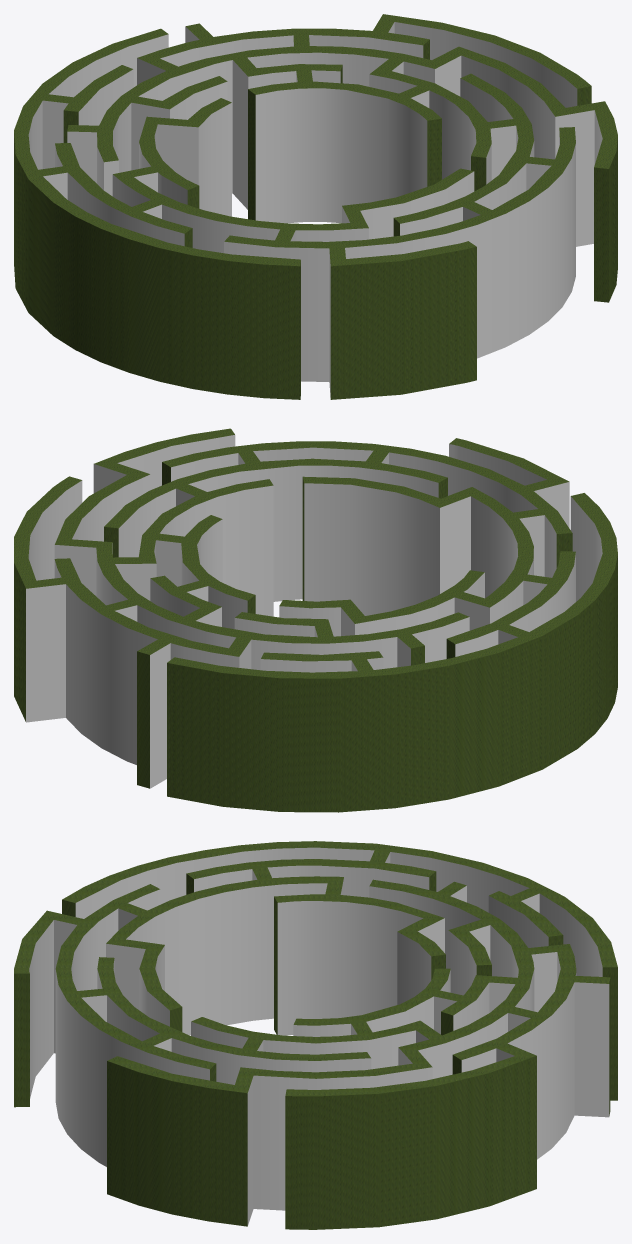
Rendered from mesh1_model_lev2.glb.
3 renders of one model, top to bottom at view 1: azimuth 30°, elevation 25°; view 2: azimuth 150°, elevation 25°; view 3: azimuth 270°, elevation 25°, orthographic.
Parts seen in each view (by area): view 1: mesh1_model_lev2; view 2: mesh1_model_lev2; view 3: mesh1_model_lev2.
Part boxes in pixels (x1,y1,x2,y2): mesh1_model_lev2: (14,14,617,399); mesh1_model_lev2: (14,428,617,812); mesh1_model_lev2: (14,841,617,1229).
Size of the model in its own units: 13.58 by 3.31 by 13.57.
2 materials, 1 textured.
